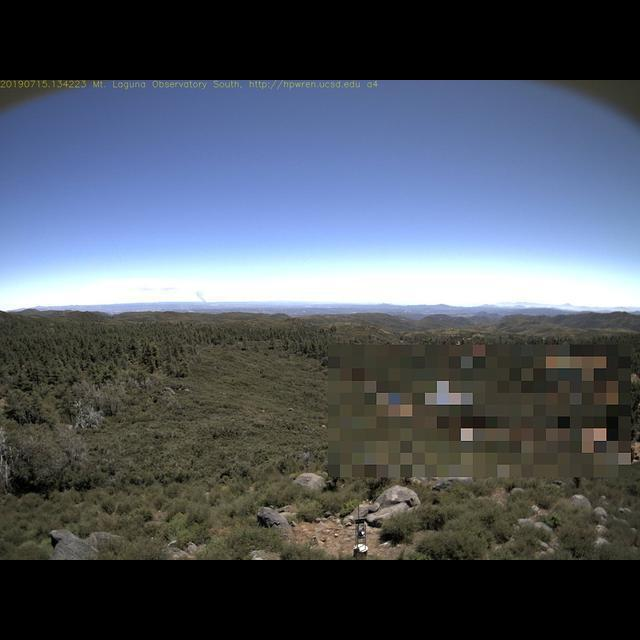Smoke: (188, 286, 208, 304)
